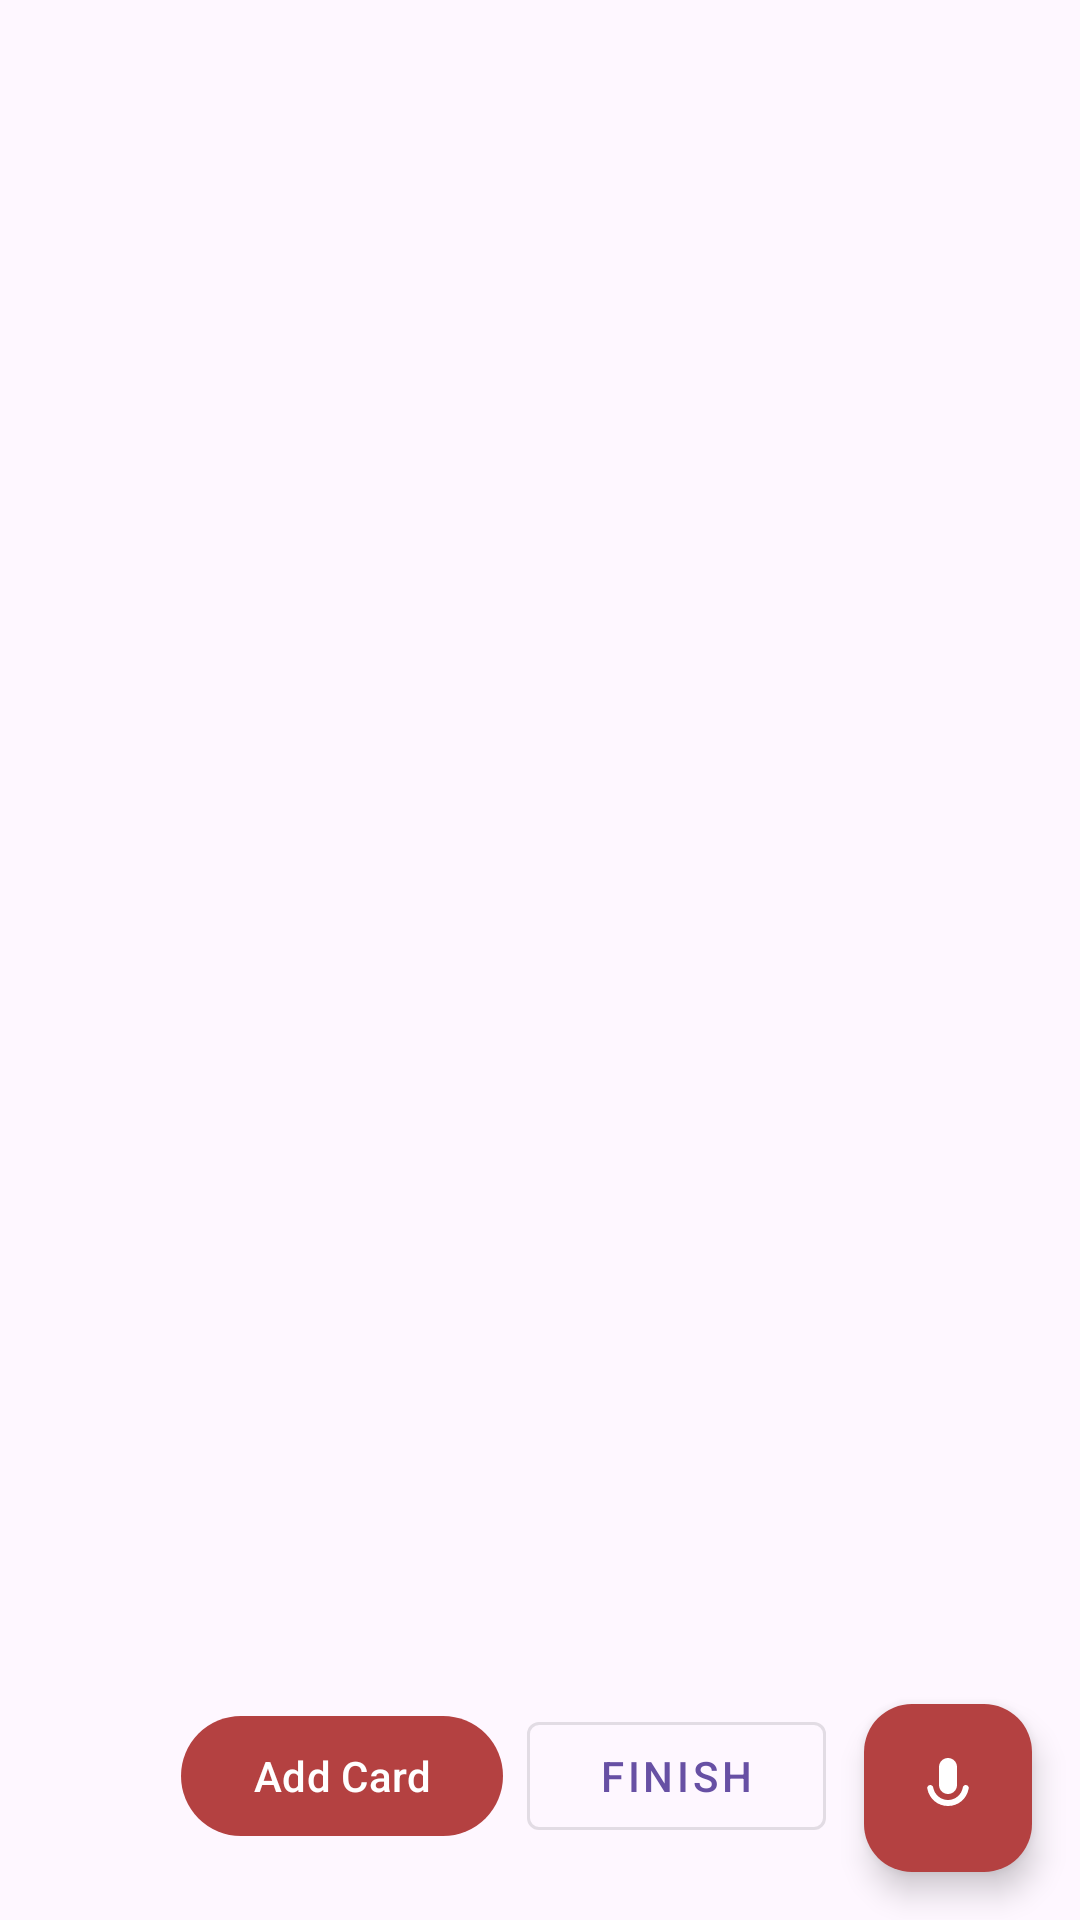

Icon click points for this 1080 × 1920 phone screenshot, format point (x, y):
Voice control: point (948, 1788)
